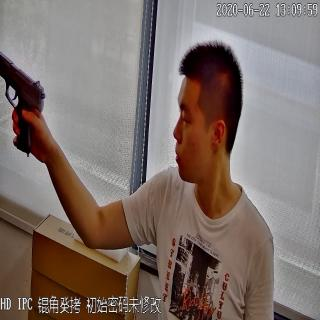gun: (0, 45, 46, 161)
